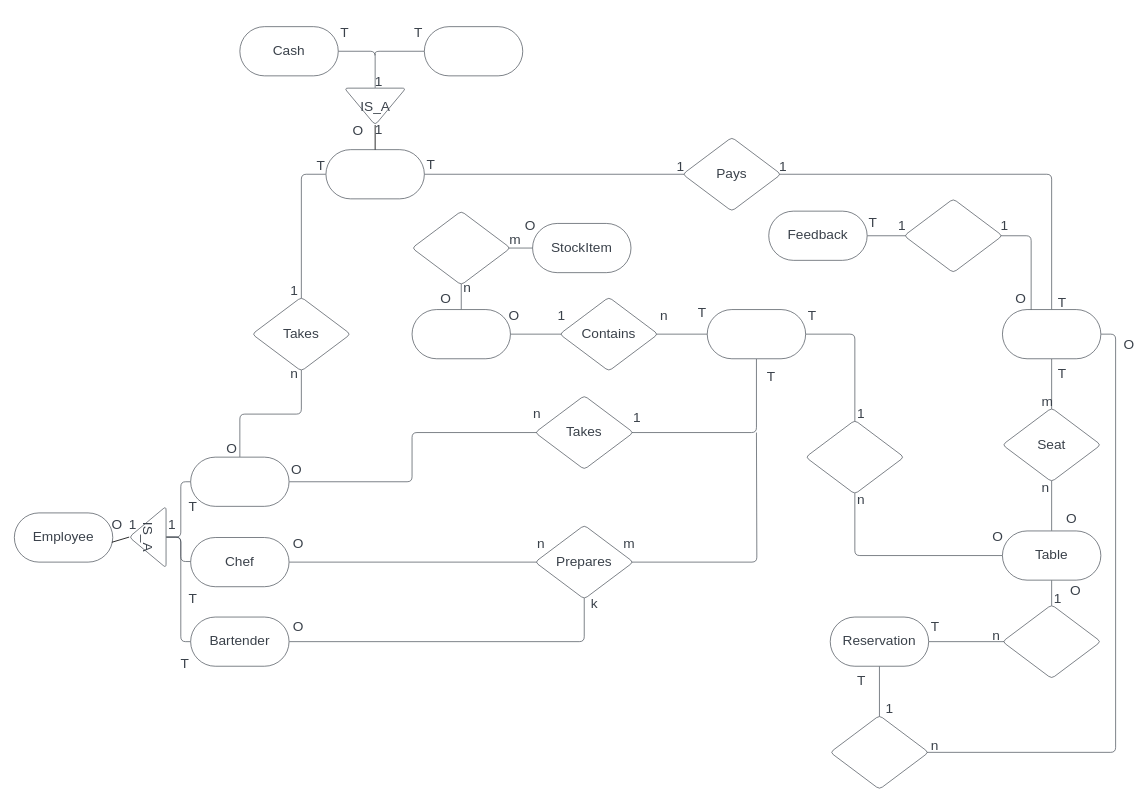
This 1148x804 diagram has some shape labels left out. Each missing label, with the centre of its shape:
Assign: point 854,457
Card: point 473,51
Customer: point 1051,334
Leaves: point 952,235
Made From: point 460,247
Makes: point 879,752
MenuItem: point 460,334
Order: point 756,334
Payment: point 374,174
Reserved: point 1051,641
Waiter: point 239,481
